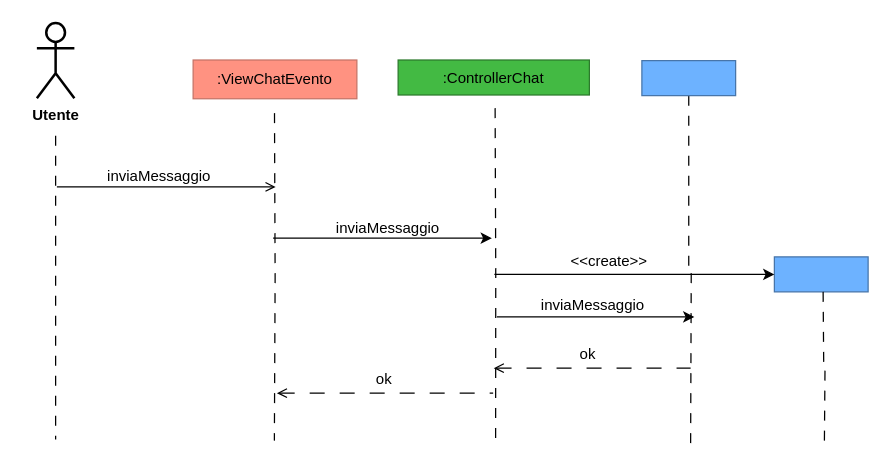
Some shapes in this 890 by 471 pixel diagram are drawn without their labels. Here are the shapes that lost their labels. From the top down, the centre of each, then its label:
At point (688, 77): ":Chat".
At point (820, 274): ":Messaggio".
